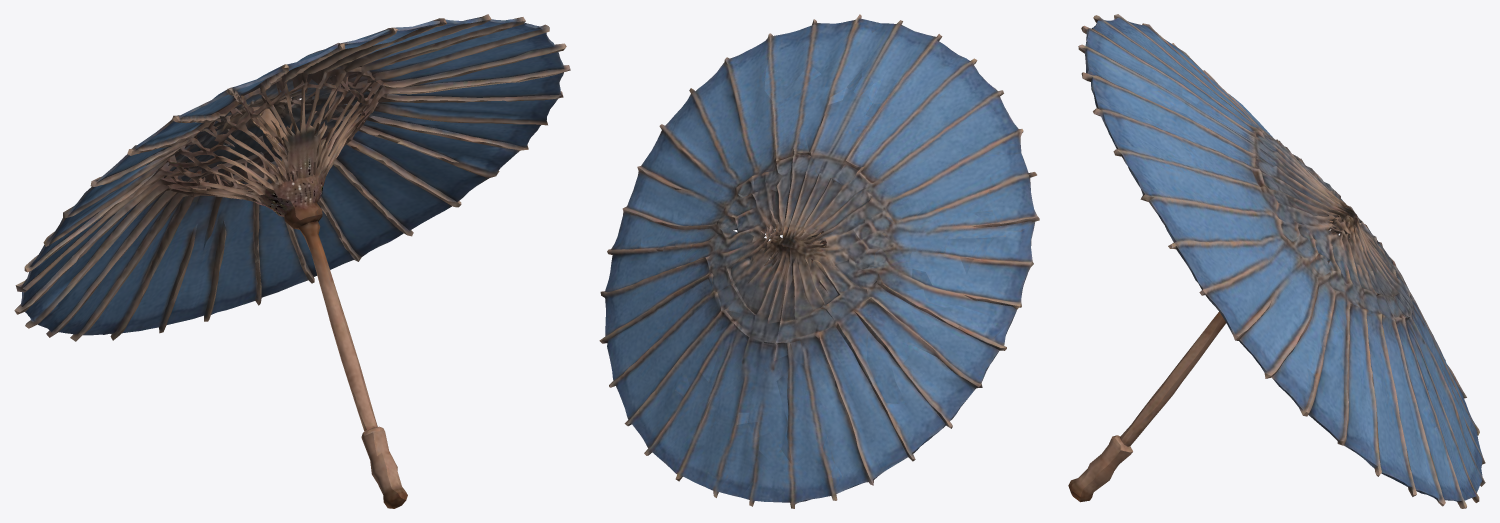
The picture shows the model from 3 angles, left to right: view 1: azimuth 30°, elevation 25°; view 2: azimuth 150°, elevation 25°; view 3: azimuth 270°, elevation 25°; orthographic projection. The views are drawn at different scales.
Parts seen in each view (by area): view 1: world; view 2: world; view 3: world.
Boxes of the visible parts, x1=… form: world: x1=14, y1=14, x2=570, y2=508; world: x1=599, y1=14, x2=1039, y2=508; world: x1=1068, y1=14, x2=1485, y2=508.
Size of the model in its own units: 0.85 by 0.7769 by 0.6437.
Materials: 1 (1 with a texture image).
